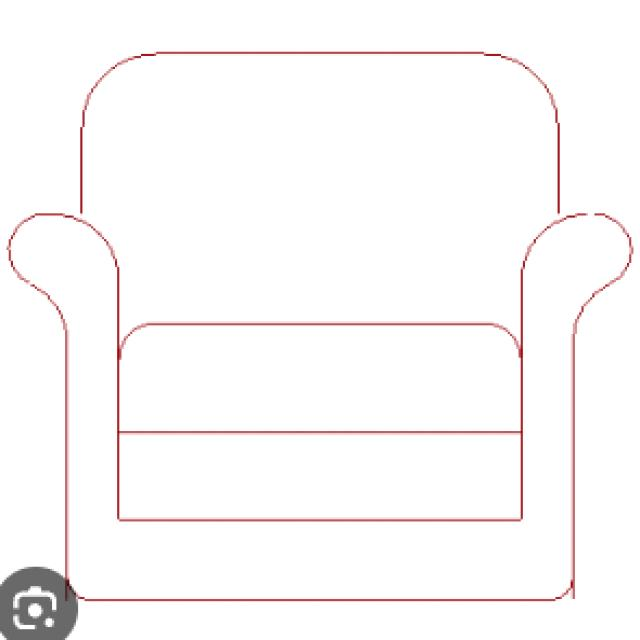Backrest: (76, 50, 564, 360)
Seat: (115, 322, 523, 526)
sofa_armrest: (518, 210, 635, 605), (9, 211, 125, 599)
